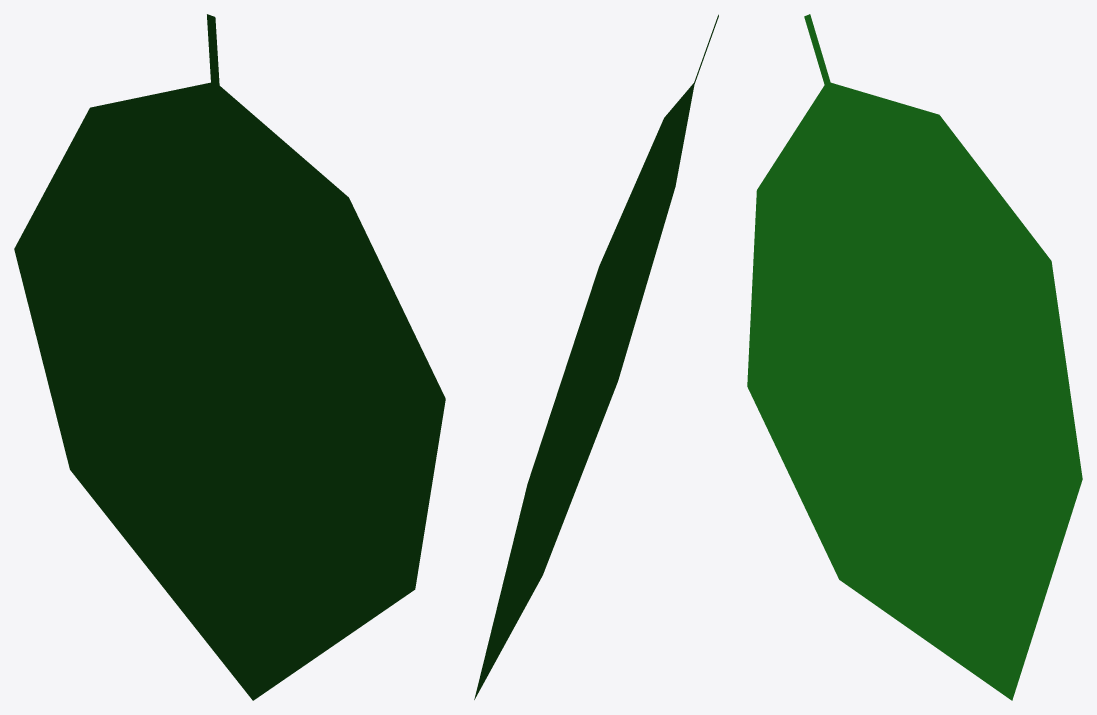
Rendered from Leaves.115.obj.
3 renders of one model, left to right at view 1: azimuth 30°, elevation 25°; view 2: azimuth 150°, elevation 25°; view 3: azimuth 270°, elevation 25°, orthographic. The views are drawn at different scales.
Parts seen in each view (by area): view 1: Leaves.115_leaves.115; view 2: Leaves.115_leaves.115; view 3: Leaves.115_leaves.115.
Boxes of the visible parts, left/top/right/bottom form: Leaves.115_leaves.115: left=14, top=14, right=445, bottom=700; Leaves.115_leaves.115: left=474, top=14, right=718, bottom=699; Leaves.115_leaves.115: left=747, top=14, right=1082, bottom=700.
Bounding box in the file's own units: 0.0459 × 0.1405 × 0.0688.
